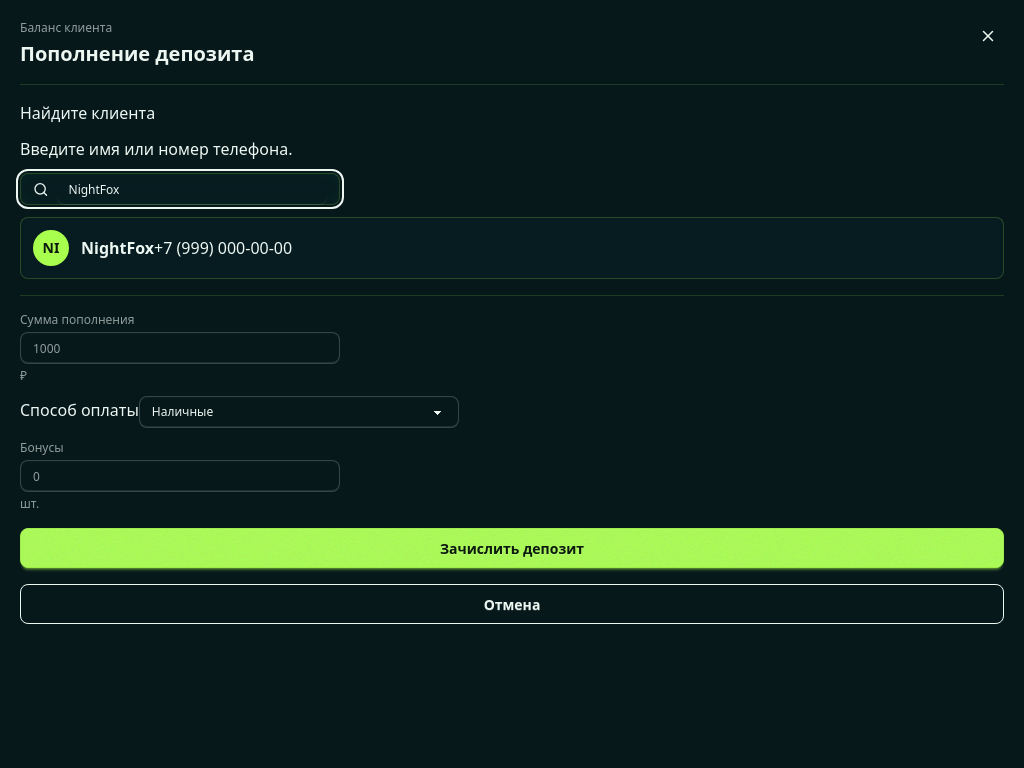
Test: Пополнение депозита › не округляет дробный ввод в старом целом бонусном поле пополнения
Replace the text in the field named "Количество бонусов" with "0,55" at coordinates (180, 476), box [20,460,340,492]
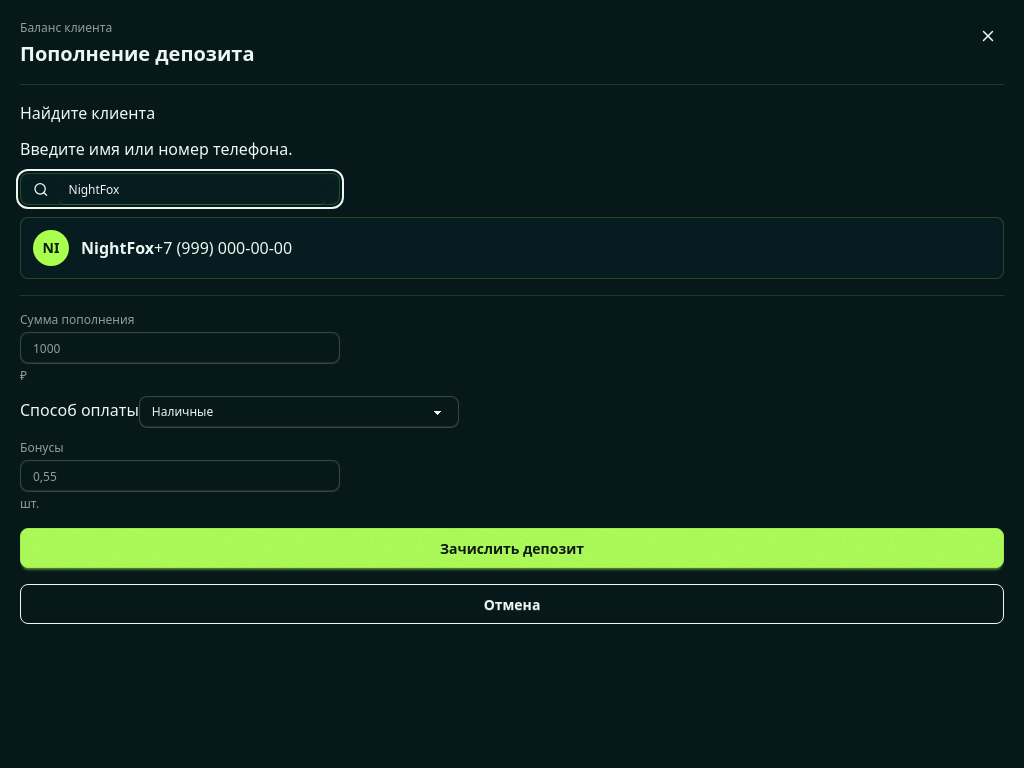
Click the button "Зачислить депозит".
click(512, 548)  # box [20,528,1004,568]
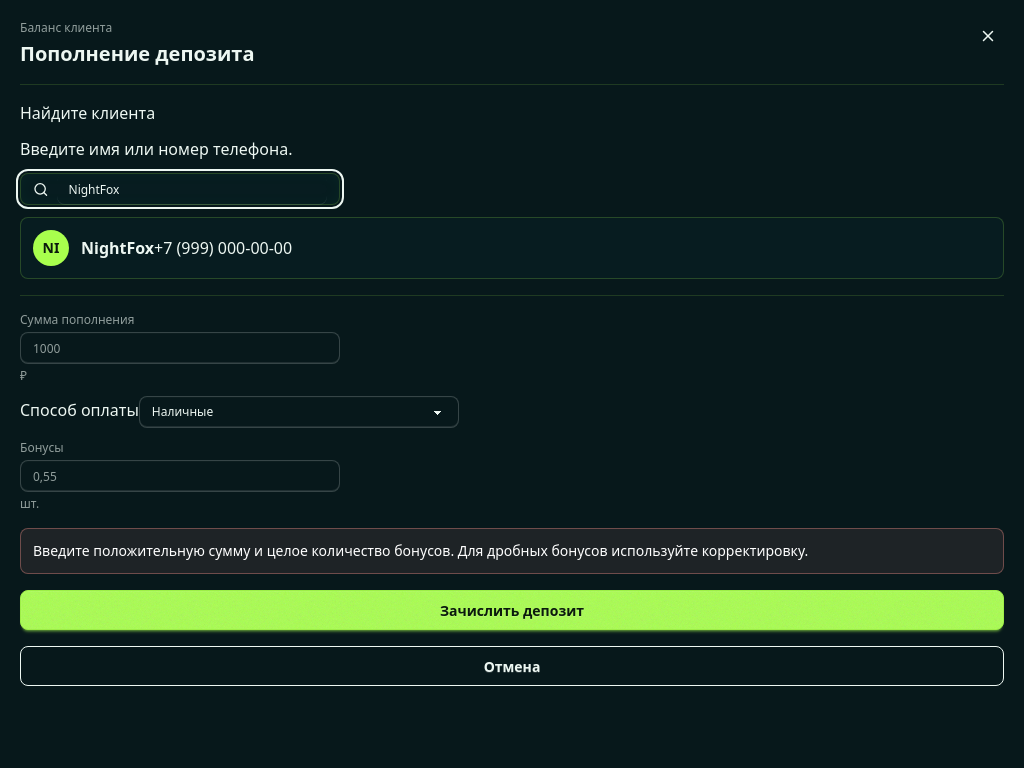
Expected: the message shows "Для дробных бонусов используйте корректировку", [33,541,808,560]
